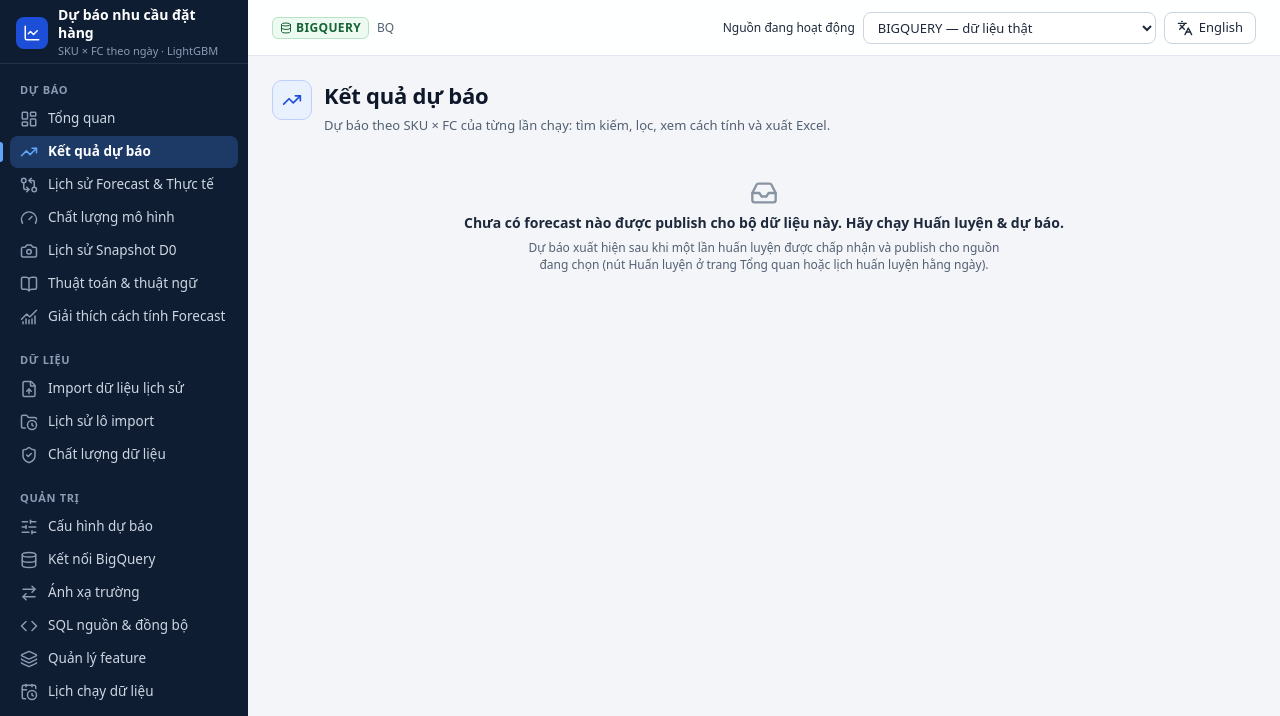
Test: v1.2.5 Forecast & actual history page › has its own menu entry next to the results (the old pages are unchanged) and opens the page
This screenshot has width=1280, height=716.
Click the link "Lịch sử Forecast & Thực tế". click: [117, 185]
box: 20,175 -> 214,194
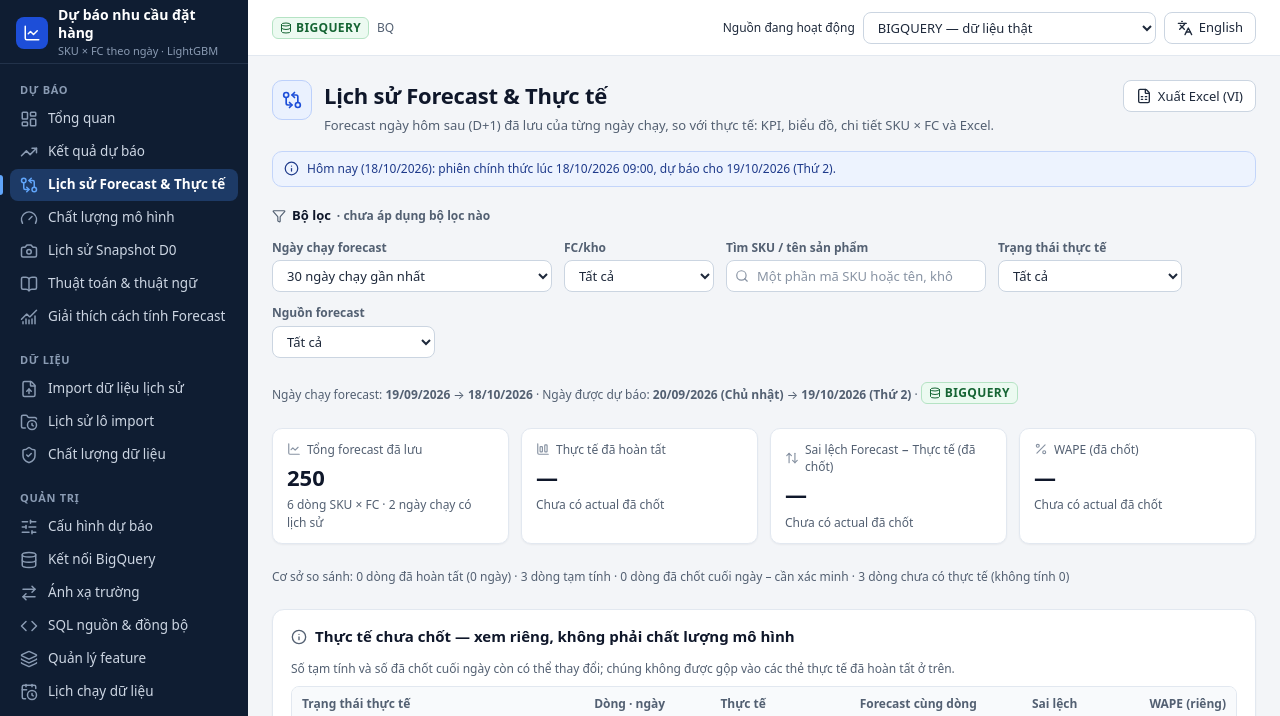
Expected: the link "Lịch sử Forecast & Thực tế" is shown, 10,169 -> 238,201
Now the heading "Lịch sử Forecast & Thực tế" is shown, box 324,80 -> 607,110
